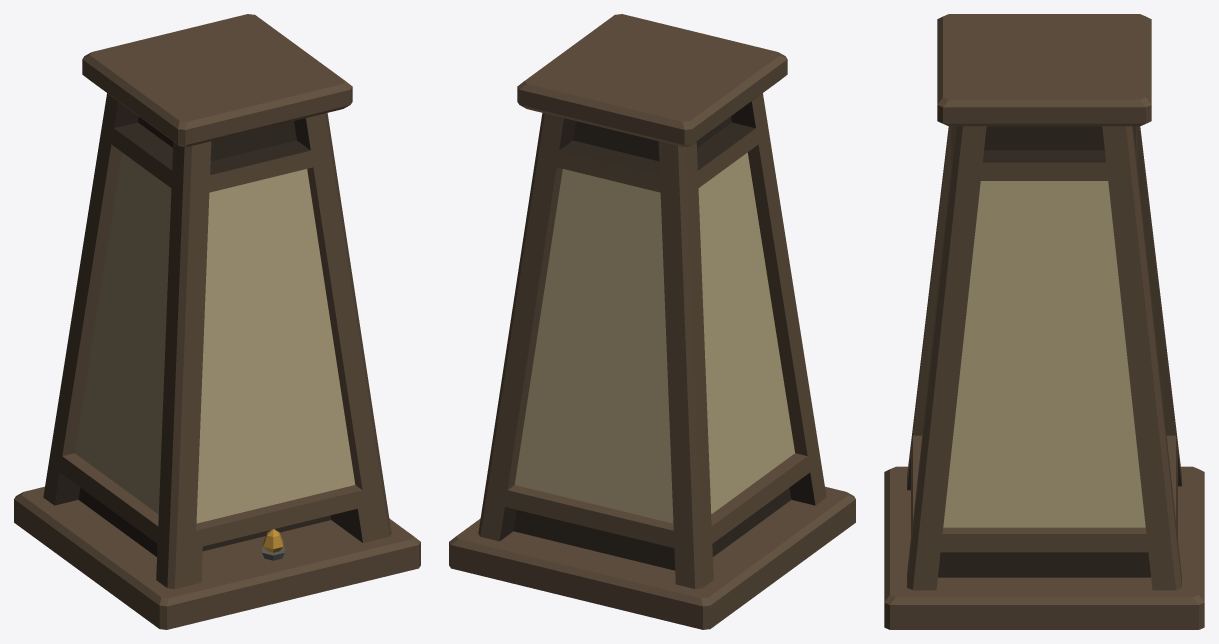
Rendered from andon-floor-lantern-b1b7ea.glb.
The picture shows the model from 3 angles, left to right: view 1: azimuth 30°, elevation 25°; view 2: azimuth 150°, elevation 25°; view 3: azimuth 270°, elevation 25°; orthographic projection. The views are drawn at different scales.
Visible parts, largest first — view 1: andon-mesh; view 2: andon-mesh; view 3: andon-mesh.
Part boxes in pixels (x1,y1,x2,y2): andon-mesh: (14,14,420,629); andon-mesh: (449,14,855,629); andon-mesh: (884,14,1204,629).
Bounding box in the file's own units: 0.5 × 0.87 × 0.5.
